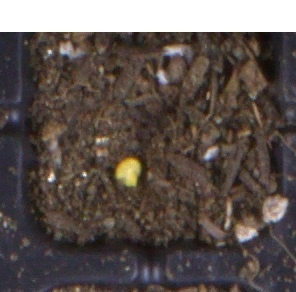chilli seed: (114, 157, 142, 188)
